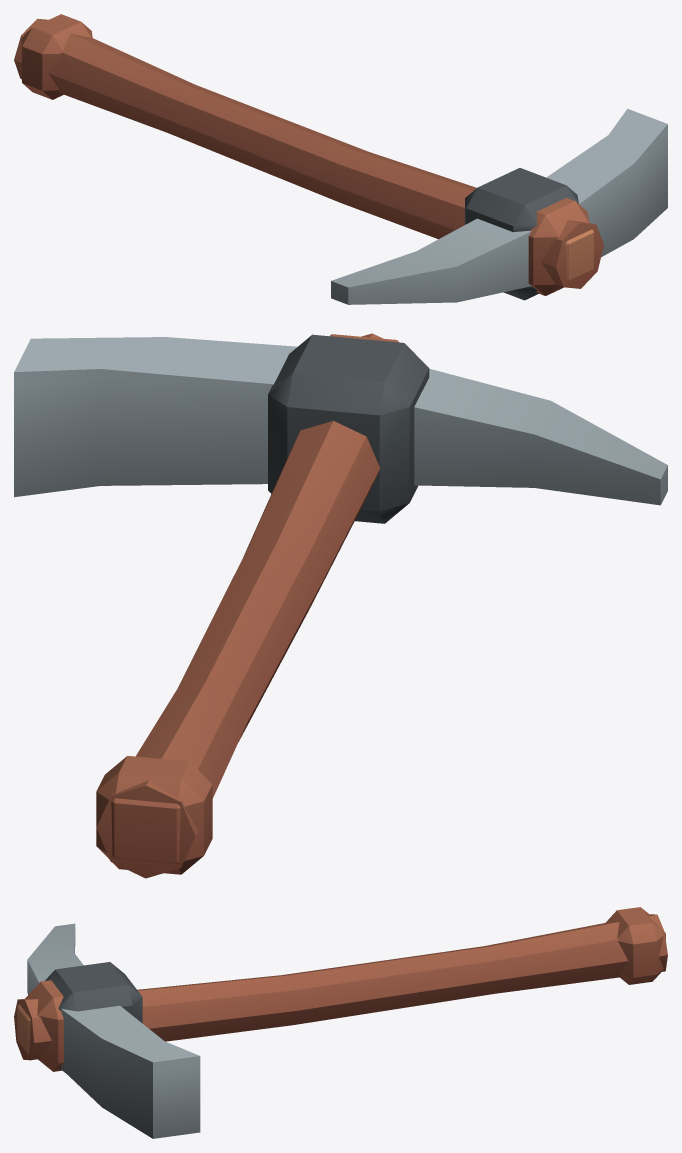
Rendered from pickaxe_loose.glb.
3 views of the same model, one above another, from view 1: azimuth 30°, elevation 25°; view 2: azimuth 150°, elevation 25°; view 3: azimuth 270°, elevation 25° (orthographic). The views are drawn at different scales.
Parts seen in each view (by area): view 1: pickaxe_loose; view 2: pickaxe_loose; view 3: pickaxe_loose.
Boxes of the visible parts, left/top/right/bottom form: pickaxe_loose: left=14, top=14, right=667, bottom=304; pickaxe_loose: left=14, top=333, right=667, bottom=878; pickaxe_loose: left=14, top=907, right=667, bottom=1138.
Size of the model in its own units: 0.908 by 0.216 by 1.47.
Materials: 1 (1 with a texture image).
